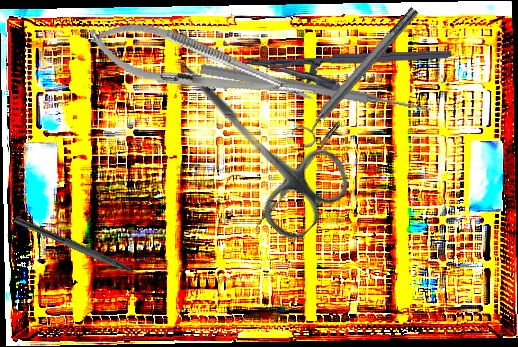Chopper: (249, 122, 346, 237), (9, 216, 156, 291)
Fixation Ring: (288, 1, 427, 151)
Iris Scissors: (142, 29, 360, 248)
Needle Holder: (80, 9, 322, 124), (242, 49, 453, 94)
Pusher: (199, 61, 434, 118)
